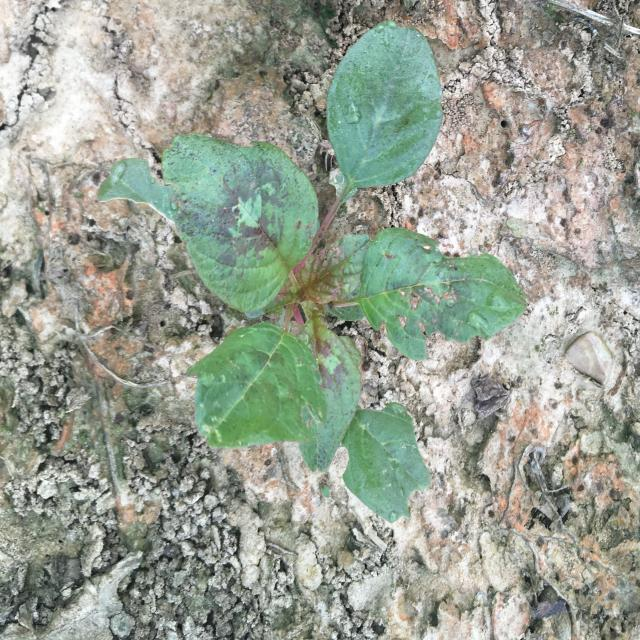PalmerAmaranth: (98, 21, 526, 523)
